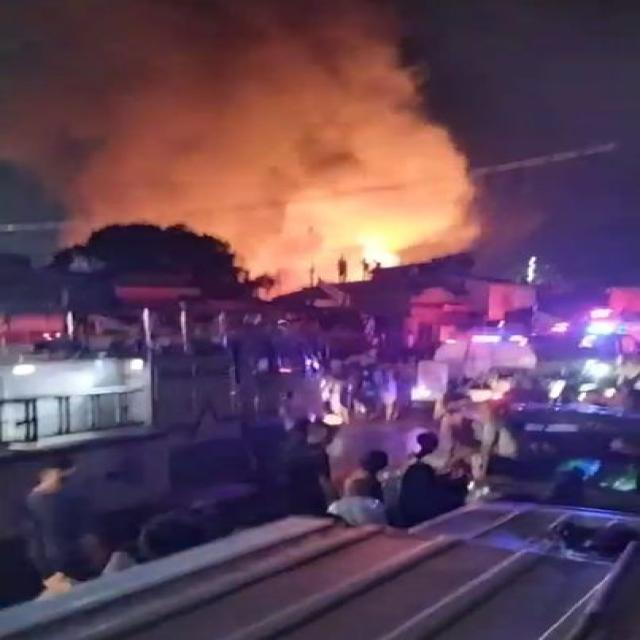Fire: (352, 222, 424, 276)
Smoke: (0, 0, 480, 294)
